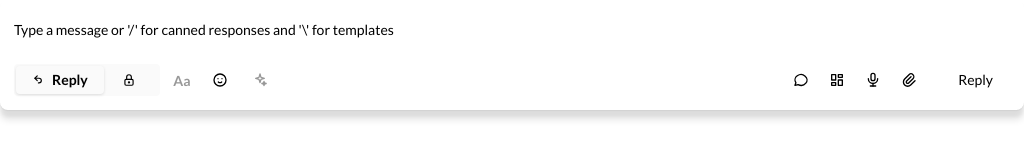
Scenario: TicketComposer canned responses › searches templates by keyword while the templates drawer is open
Click the button named "Templates" at (837, 80), box [821, 64, 853, 96]
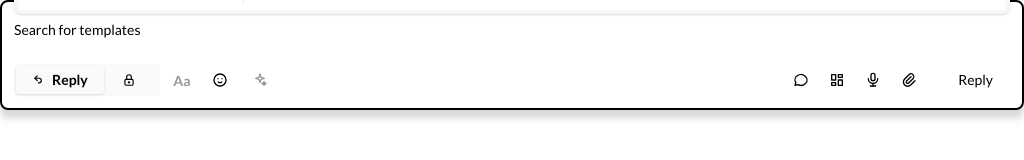
Type "cart" into the text box at (512, 30), box [14, 14, 1010, 46]
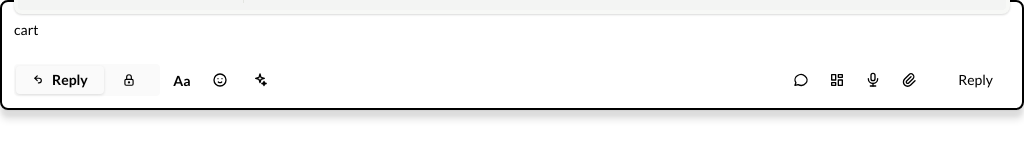
Press Enter
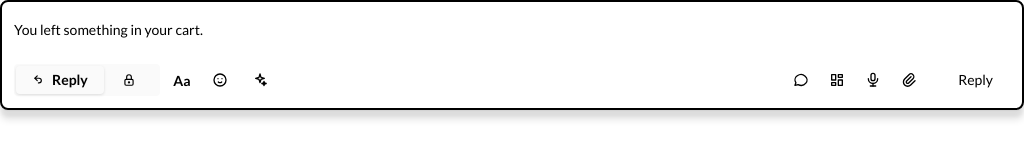
Expected: the text box holds "You left something in your cart.", [14, 14, 1010, 46]
